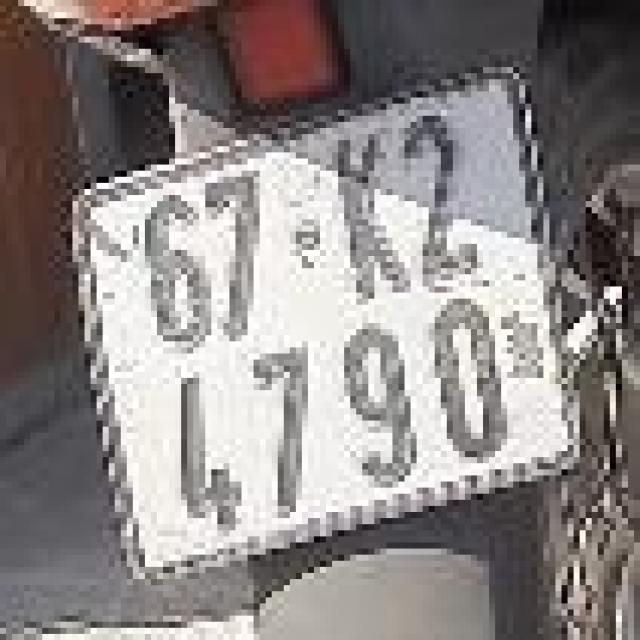0: (420, 289, 516, 466)
2: (402, 106, 510, 290)
4: (166, 356, 251, 540)
6: (133, 198, 217, 357)
7: (239, 344, 329, 515), (205, 171, 284, 341)
9: (329, 323, 420, 494)
K: (332, 134, 411, 299)
